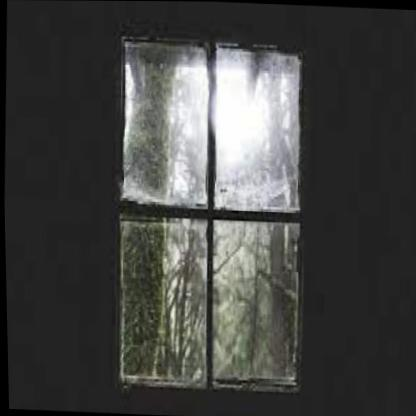Window: (104, 26, 313, 399)
